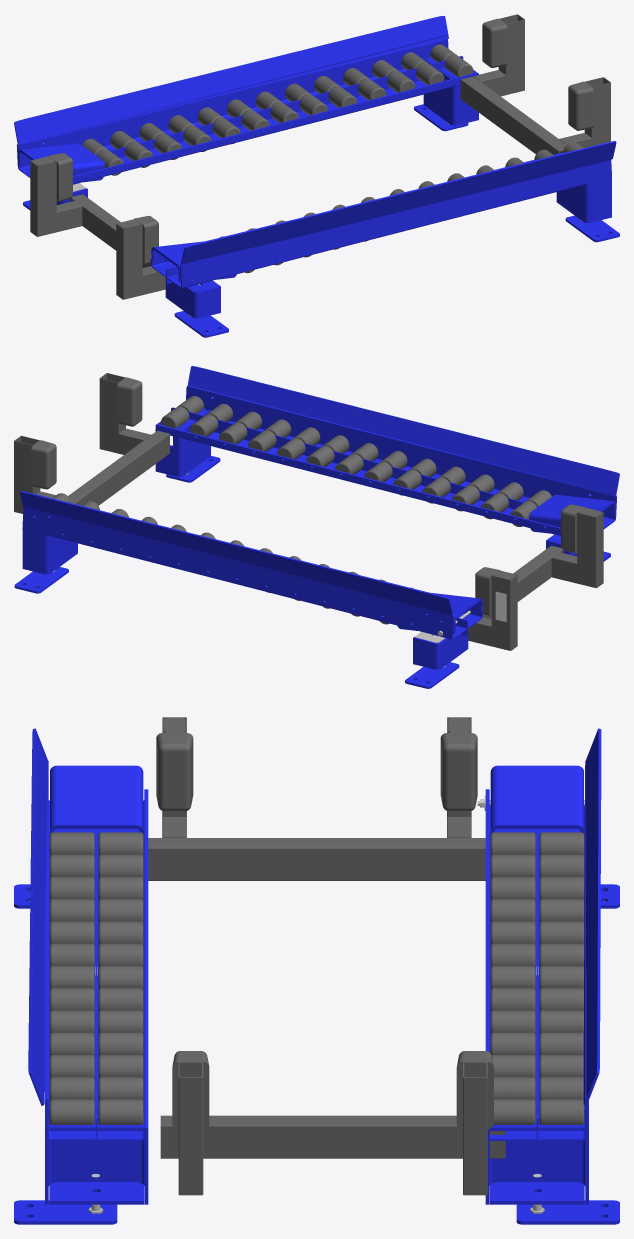
File: SP01_PalletFeeder.fbx
3 views of the same model, one above another, from view 1: azimuth 30°, elevation 25°; view 2: azimuth 150°, elevation 25°; view 3: azimuth 270°, elevation 25° (orthographic). The views are drawn at different scales.
Parts seen in each view (by area): view 1: RoundedCubePro, Arkusz_Blachy_Cze_ci6_2, Arkusz_Blachy_Cze_ci6_3, RoundedCubePro__1_, Cze_æ87_4__1_, Arkusz_Blachy_Cze_ci82_3, Cze_æ87_1, Cze_æ87_3, Arkusz_Blachy_Cze_ci93_2, Arkusz_Blachy_Cze_ci82_2, Arkusz_Blachy_Cze_ci111_1, Arkusz_Blachy_Cze_ci82 (+15 smaller); view 2: Arkusz_Blachy_Cze_ci6_3, Arkusz_Blachy_Cze_ci6_2, RoundedCubePro__1_, RoundedCubePro, Cze_æ87_4__1_, Arkusz_Blachy_Cze_ci82_2, Cze_æ87_1, Arkusz_Blachy_Cze_ci82_3, Arkusz_Blachy_Cze_ci93_3, Cze_æ87_3, Arkusz_Blachy_Cze_ci111, Arkusz_Blachy_Cze_ci82_1 (+15 smaller); view 3: Cze_æ87_4, Cze_æ87_4__1_, Arkusz_Blachy_Cze_ci6_3, Arkusz_Blachy_Cze_ci111, Arkusz_Blachy_Cze_ci111_1, RoundedCubePro, RoundedCubePro__1_, Arkusz_Blachy_Cze_ci6_2, Arkusz_Blachy_Cze_ci82_3, Arkusz_Blachy_Cze_ci82_2, Cze_æ87_3__1_, Cze_æ87_1__1_ (+62 smaller).
Part boxes in pixels (x1,y1,x2,y2): RoundedCubePro: (14,16,448,145); Arkusz_Blachy_Cze_ci6_2: (16,34,478,184); Arkusz_Blachy_Cze_ci6_3: (150,152,611,288); RoundedCubePro__1_: (181,141,616,263); Cze_æ87_4__1_: (460,76,566,154); Arkusz_Blachy_Cze_ci82_3: (556,171,611,222); Cze_æ87_1: (116,219,142,299); Cze_æ87_3: (30,156,56,236); Arkusz_Blachy_Cze_ci93_2: (95,56,463,157); Arkusz_Blachy_Cze_ci82_2: (423,56,478,125); Arkusz_Blachy_Cze_ci111_1: (18,143,104,182); Arkusz_Blachy_Cze_ci82: (165,278,220,318); Arkusz_Blachy_Cze_ci6_3: (155,385,616,535); Arkusz_Blachy_Cze_ci6_2: (22,506,483,639); RoundedCubePro__1_: (187,366,619,496); RoundedCubePro: (20,491,452,615); Cze_æ87_4__1_: (68,430,169,505); Arkusz_Blachy_Cze_ci82_2: (22,525,77,574); Cze_æ87_1: (577,507,603,588); Arkusz_Blachy_Cze_ci82_3: (155,409,210,476); Arkusz_Blachy_Cze_ci93_3: (171,407,538,509); Cze_æ87_3: (491,570,517,650); Arkusz_Blachy_Cze_ci111: (529,494,615,533); Arkusz_Blachy_Cze_ci82_1: (413,629,468,669); Cze_æ87_4: (148,838,485,880); Cze_æ87_4__1_: (160,1115,505,1158); Arkusz_Blachy_Cze_ci6_3: (45,760,148,1140); Arkusz_Blachy_Cze_ci111: (50,765,143,833); Arkusz_Blachy_Cze_ci111_1: (490,765,583,833); RoundedCubePro: (583,728,601,1105); RoundedCubePro__1_: (28,728,47,1105); Arkusz_Blachy_Cze_ci6_2: (485,761,588,1140); Arkusz_Blachy_Cze_ci82_3: (45,1108,148,1204); Arkusz_Blachy_Cze_ci82_2: (485,1108,588,1204); Cze_æ87_3__1_: (178,1062,203,1195); Cze_æ87_1__1_: (463,1062,487,1195).
Bounding box in the file's own units: 183 × 38.31 × 118.
